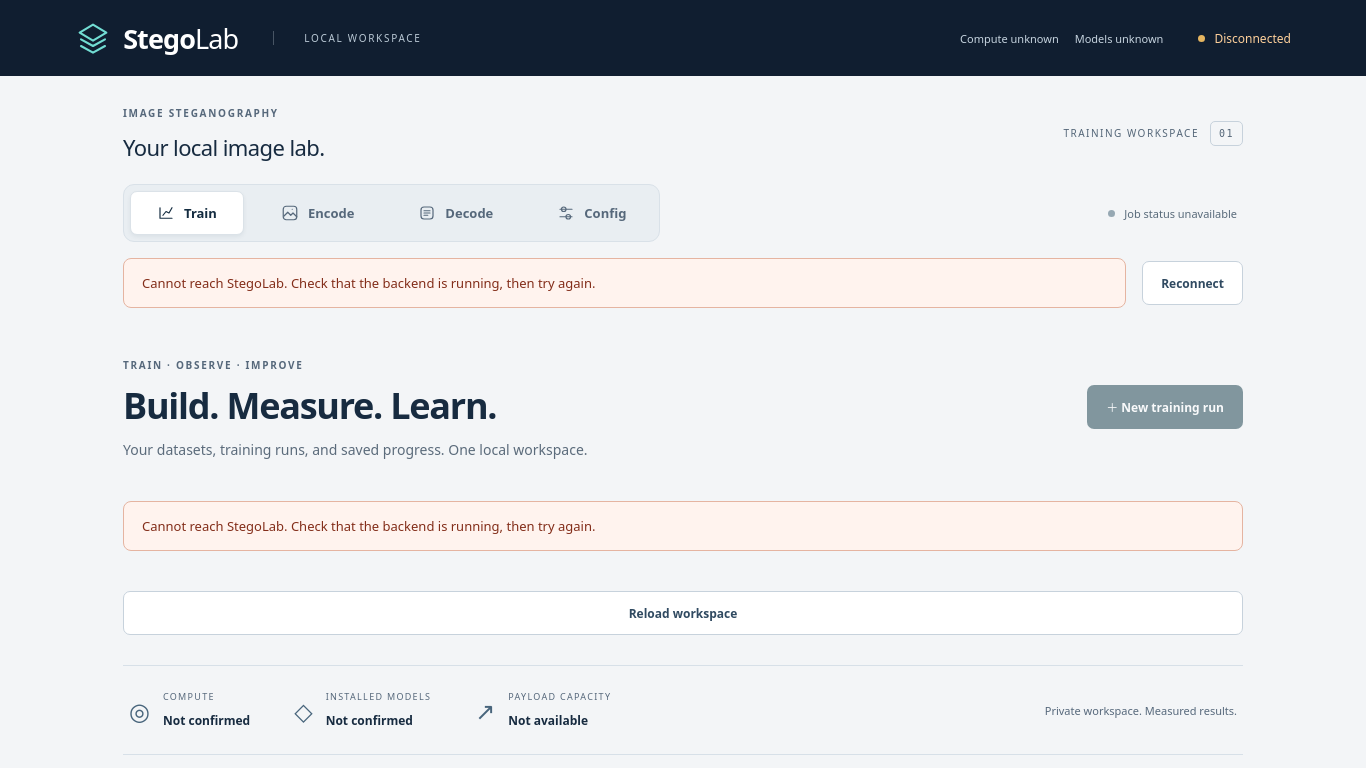
Test: workspace › shows a retry action for an unavailable backend without invented settings
Click the tab "Config": x=592, y=213 [530,191,653,235]
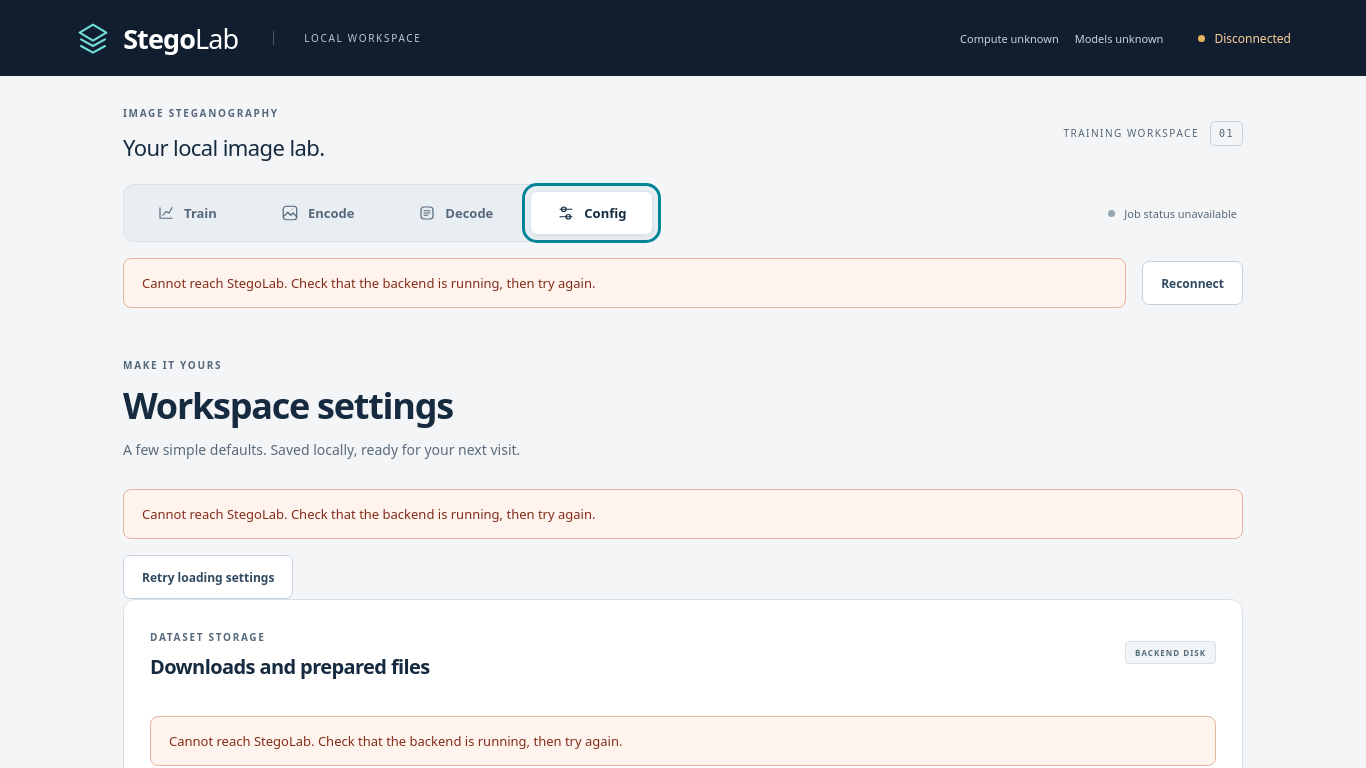
Expected: the text "Disconnected" is shown, [1198,30,1291,46]
Result: the button "Retry loading settings" is shown at [123,555,293,599]
